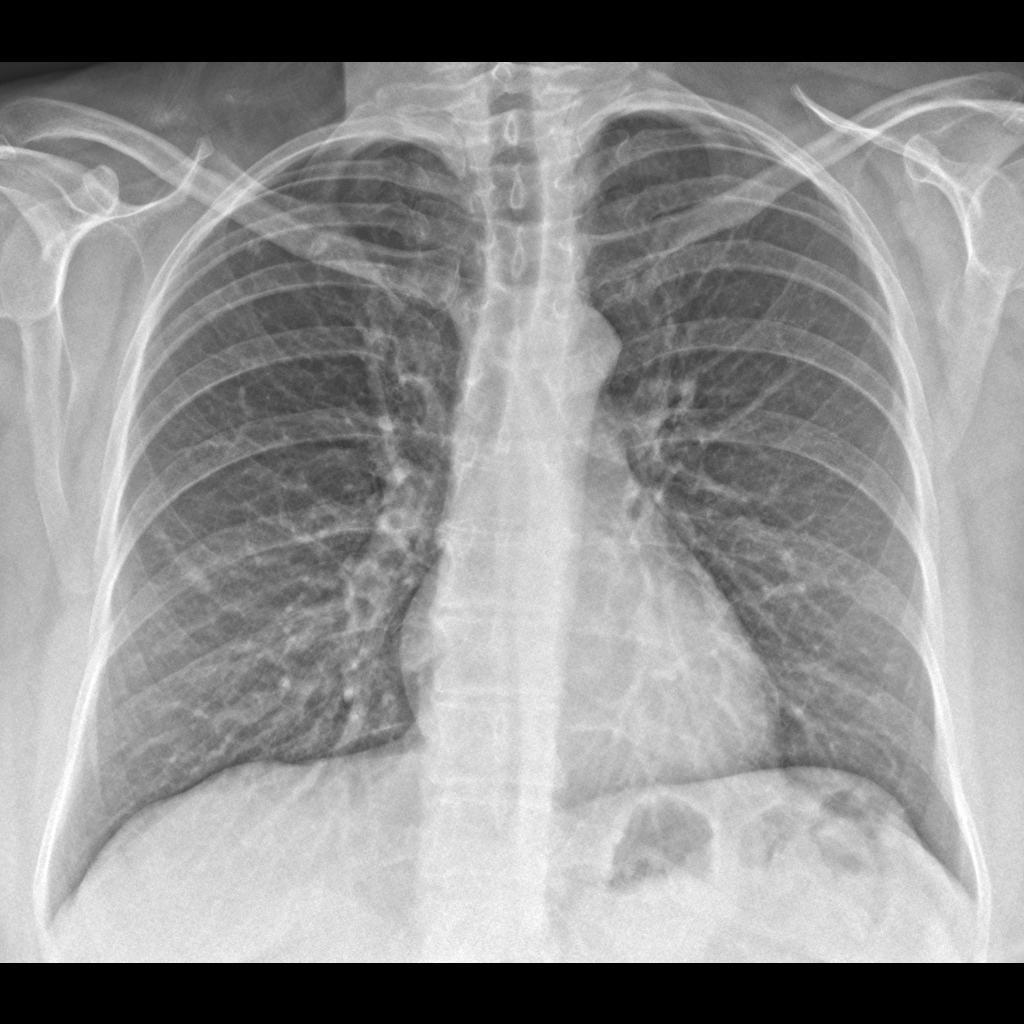Nodule: (305, 233, 340, 268)
